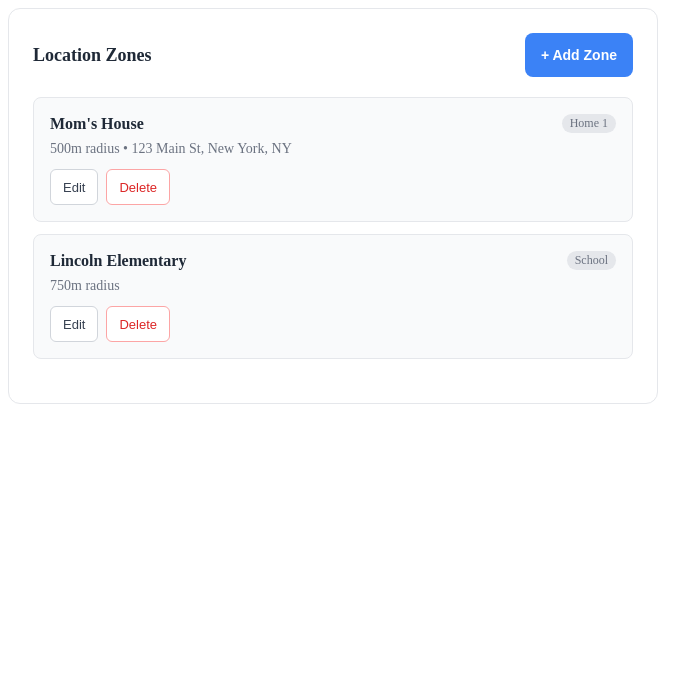
Test: LocationZoneEditor › Geofence Radius (AC4) › updates radius when slider changes
Click the button with test id "add-zone-button". click: (579, 55)
box: left=525, top=33, right=633, bottom=77
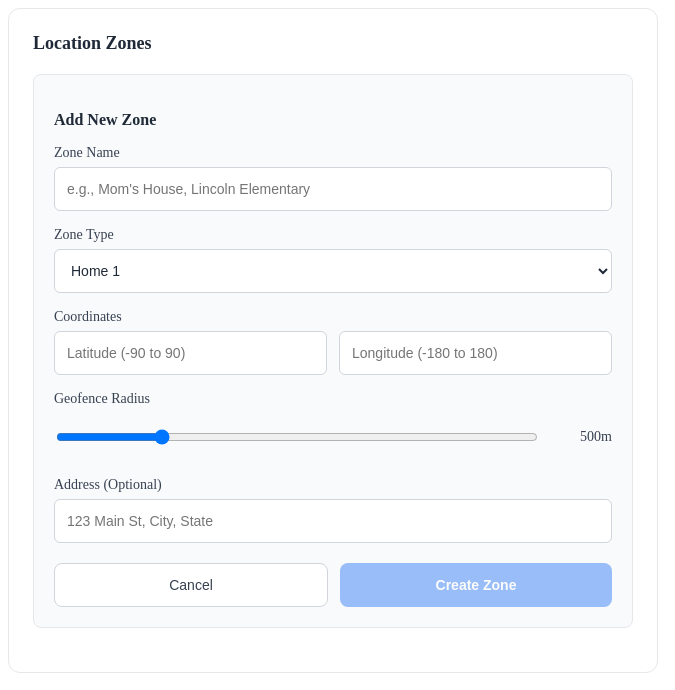
Set the slider with test id "radius-slider" to "1000". click: (285, 437)
box: left=56, top=415, right=538, bottom=459
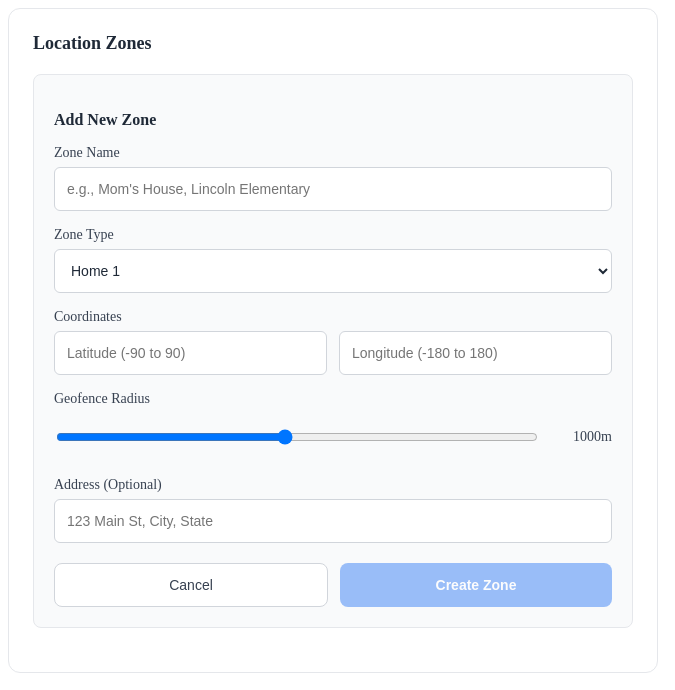
Result: the text with test id "radius-value" reads "1000m" at left=573, top=429, right=612, bottom=444
